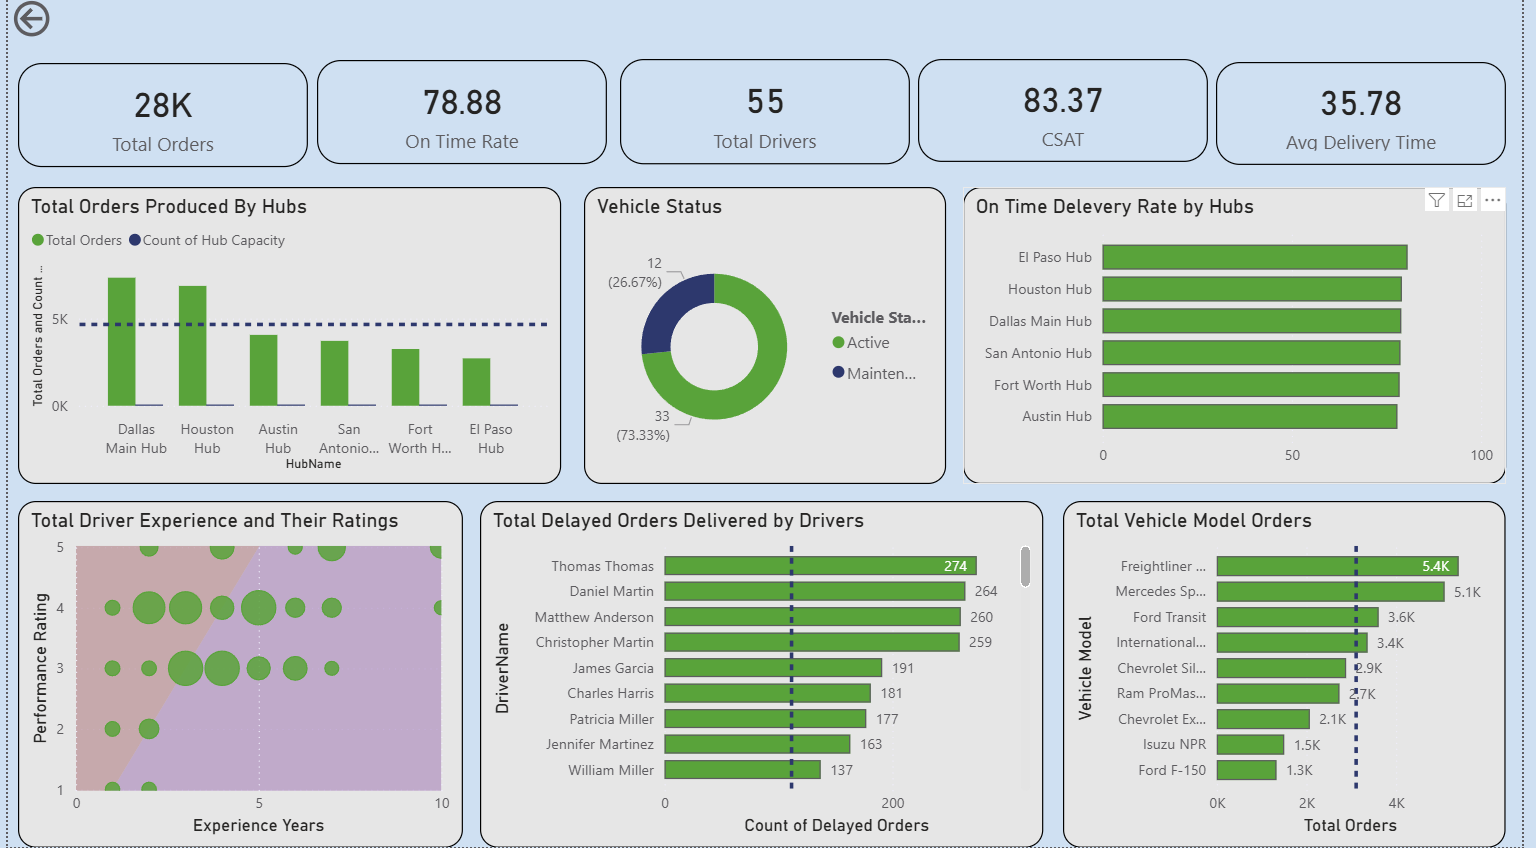

The page's visual inventory and layout, read from the dashboard file:
{"tool":"powerbi","page":{"name":"Overview ","canvas":[1280,720],"ordinal":0},"visuals":[{"type":"card","fields":{"Values":["Orders.Total Orders"]},"box":[8.6,57.2,245.1,87.7],"z":0},{"type":"card","fields":{"Values":["Orders.On Time Rate %"]},"box":[261.3,55.3,245.1,87.7],"z":1000},{"type":"card","fields":{"Values":["Orders.CSAT %"]},"box":[768.8,54.4,245.1,86.8],"z":2000},{"type":"card","fields":{"Values":["Orders.Avg Delivery Time"]},"box":[1020.6,56.3,245.1,86.8],"z":3000},{"type":"clusteredColumnChart","title":"Total Orders Produced By Hubs","fields":{"Y":["Orders.Total Orders","CountNonNull(Hubs.Hub Capacity)"],"Category":["Hubs.HubName"]},"box":[8.6,162.1,458.8,250.8],"z":4000},{"type":"clusteredBarChart","title":"On Time Delevery Rate by Hubs","fields":{"Y":["Orders.On Time Rate"],"Category":["Hubs.HubName"]},"box":[806.9,162.1,458.8,250.8],"z":5000},{"type":"actionButton","box":[0,0,100,40],"z":6000},{"type":"card","fields":{"Values":["CountNonNull(Drivers.DriverID)"]},"box":[517,54.4,245.1,88.7],"z":7000},{"type":"scatterChart","title":"Total Driver Experience and Their Ratings","fields":{"X":["Drivers.Experience Years"],"Y":["Drivers.Performance Rating"],"Size":["Orders.Total Orders"]},"box":[8.6,427.3,375.8,292.8],"z":8000},{"type":"clusteredBarChart","title":"Total Delayed Orders Delivered by Drivers","fields":{"Category":["Drivers.DriverName"],"Y":["CountNonNull(Orders.Delayed Orders)"]},"box":[398.7,427.3,475.9,292.8],"z":9000},{"type":"donutChart","title":"Vehicle Status","fields":{"Category":["Vehicles.Vehicle Status"],"Y":["CountNonNull(Vehicles.Vehicle ID)"]},"box":[486.4,162.1,306.2,250.8],"z":10000},{"type":"clusteredBarChart","title":" Total Vehicle Model Orders","fields":{"Category":["Vehicles.Vehicle Model"],"Y":["Orders.Total Orders"]},"box":[891.8,427.3,373.9,292.8],"z":11000}]}

Visuals, with their boxes in screenshot pixels (x1, y1, x2, y2), scaled from the page's 1280x720 canvas onto the 1536x848 screenshot:
card - Orders.Total Orders: BBox(10, 67, 304, 171)
card - Orders.On Time Rate %: BBox(314, 65, 608, 168)
card - Orders.CSAT %: BBox(923, 64, 1217, 166)
card - Orders.Avg Delivery Time: BBox(1225, 66, 1519, 169)
"Total Orders Produced By Hubs" clusteredColumnChart: BBox(10, 191, 561, 486)
"On Time Delevery Rate by Hubs" clusteredBarChart: BBox(968, 191, 1519, 486)
actionButton: BBox(0, 0, 120, 47)
card - CountNonNull(Drivers.DriverID): BBox(620, 64, 915, 169)
"Total Driver Experience and Their Ratings" scatterChart: BBox(10, 503, 461, 847)
"Total Delayed Orders Delivered by Drivers" clusteredBarChart: BBox(478, 503, 1050, 847)
"Vehicle Status" donutChart: BBox(584, 191, 951, 486)
" Total Vehicle Model Orders" clusteredBarChart: BBox(1070, 503, 1519, 847)
